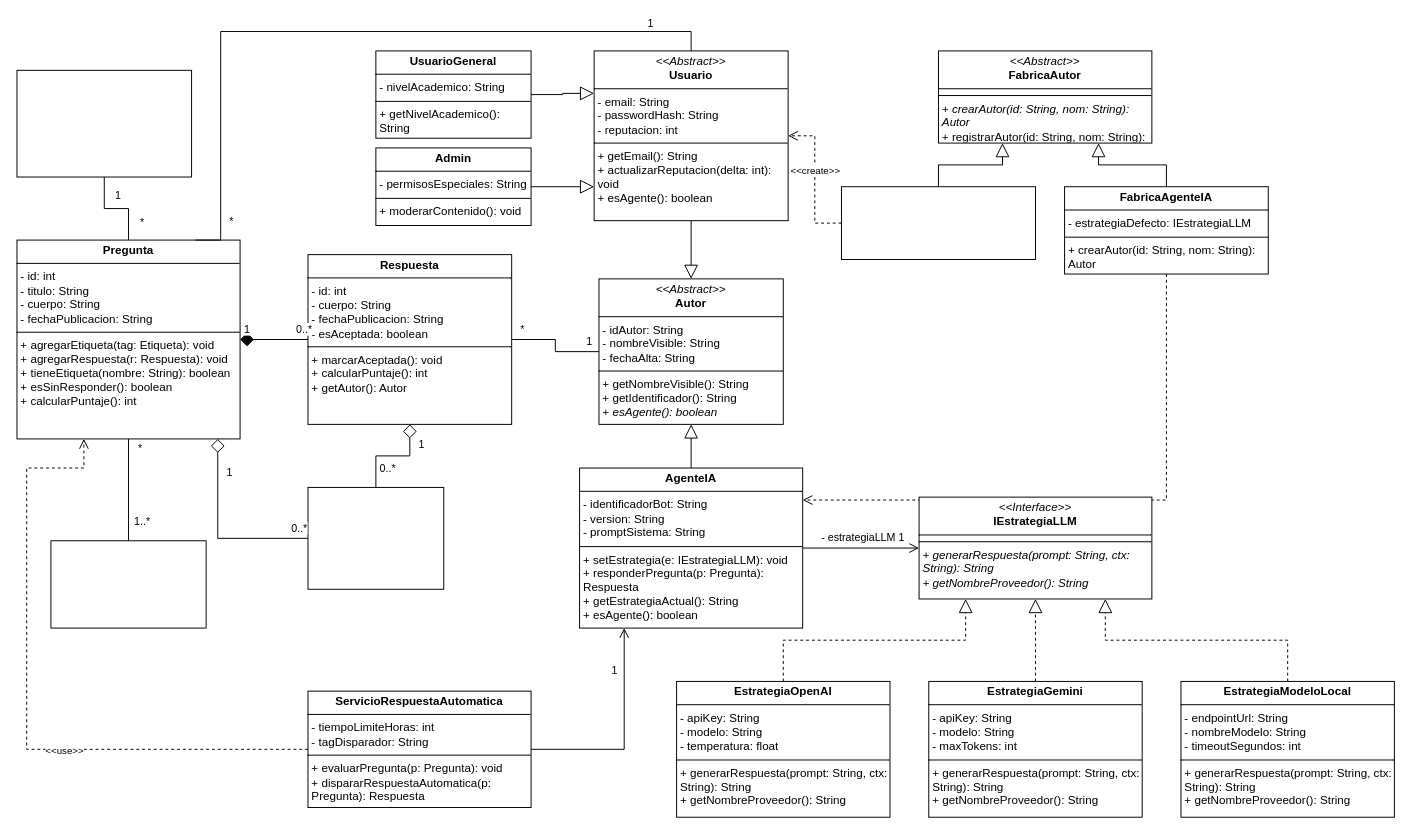
Some shapes in this 1411 by 834 pixel diagram are drawn without their labels. Here are the shapes that lost their labels. From the top down, the centre of each, then its label:
At point 104,123: "Categoria - id: int - nombre: String - descripcion: String + getNombre(): String".
At point 938,222: "FabricaUsuario + crearAutor(id: String, nom: String): Autor".
At point 375,537: "Voto - id: int - valor: int - fecha: String + getValor(): int".
At point 128,584: "Etiqueta - id: int - nombre: String + getNombre(): String".
